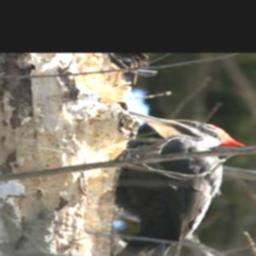Woodpecker: (111, 111, 248, 256)
